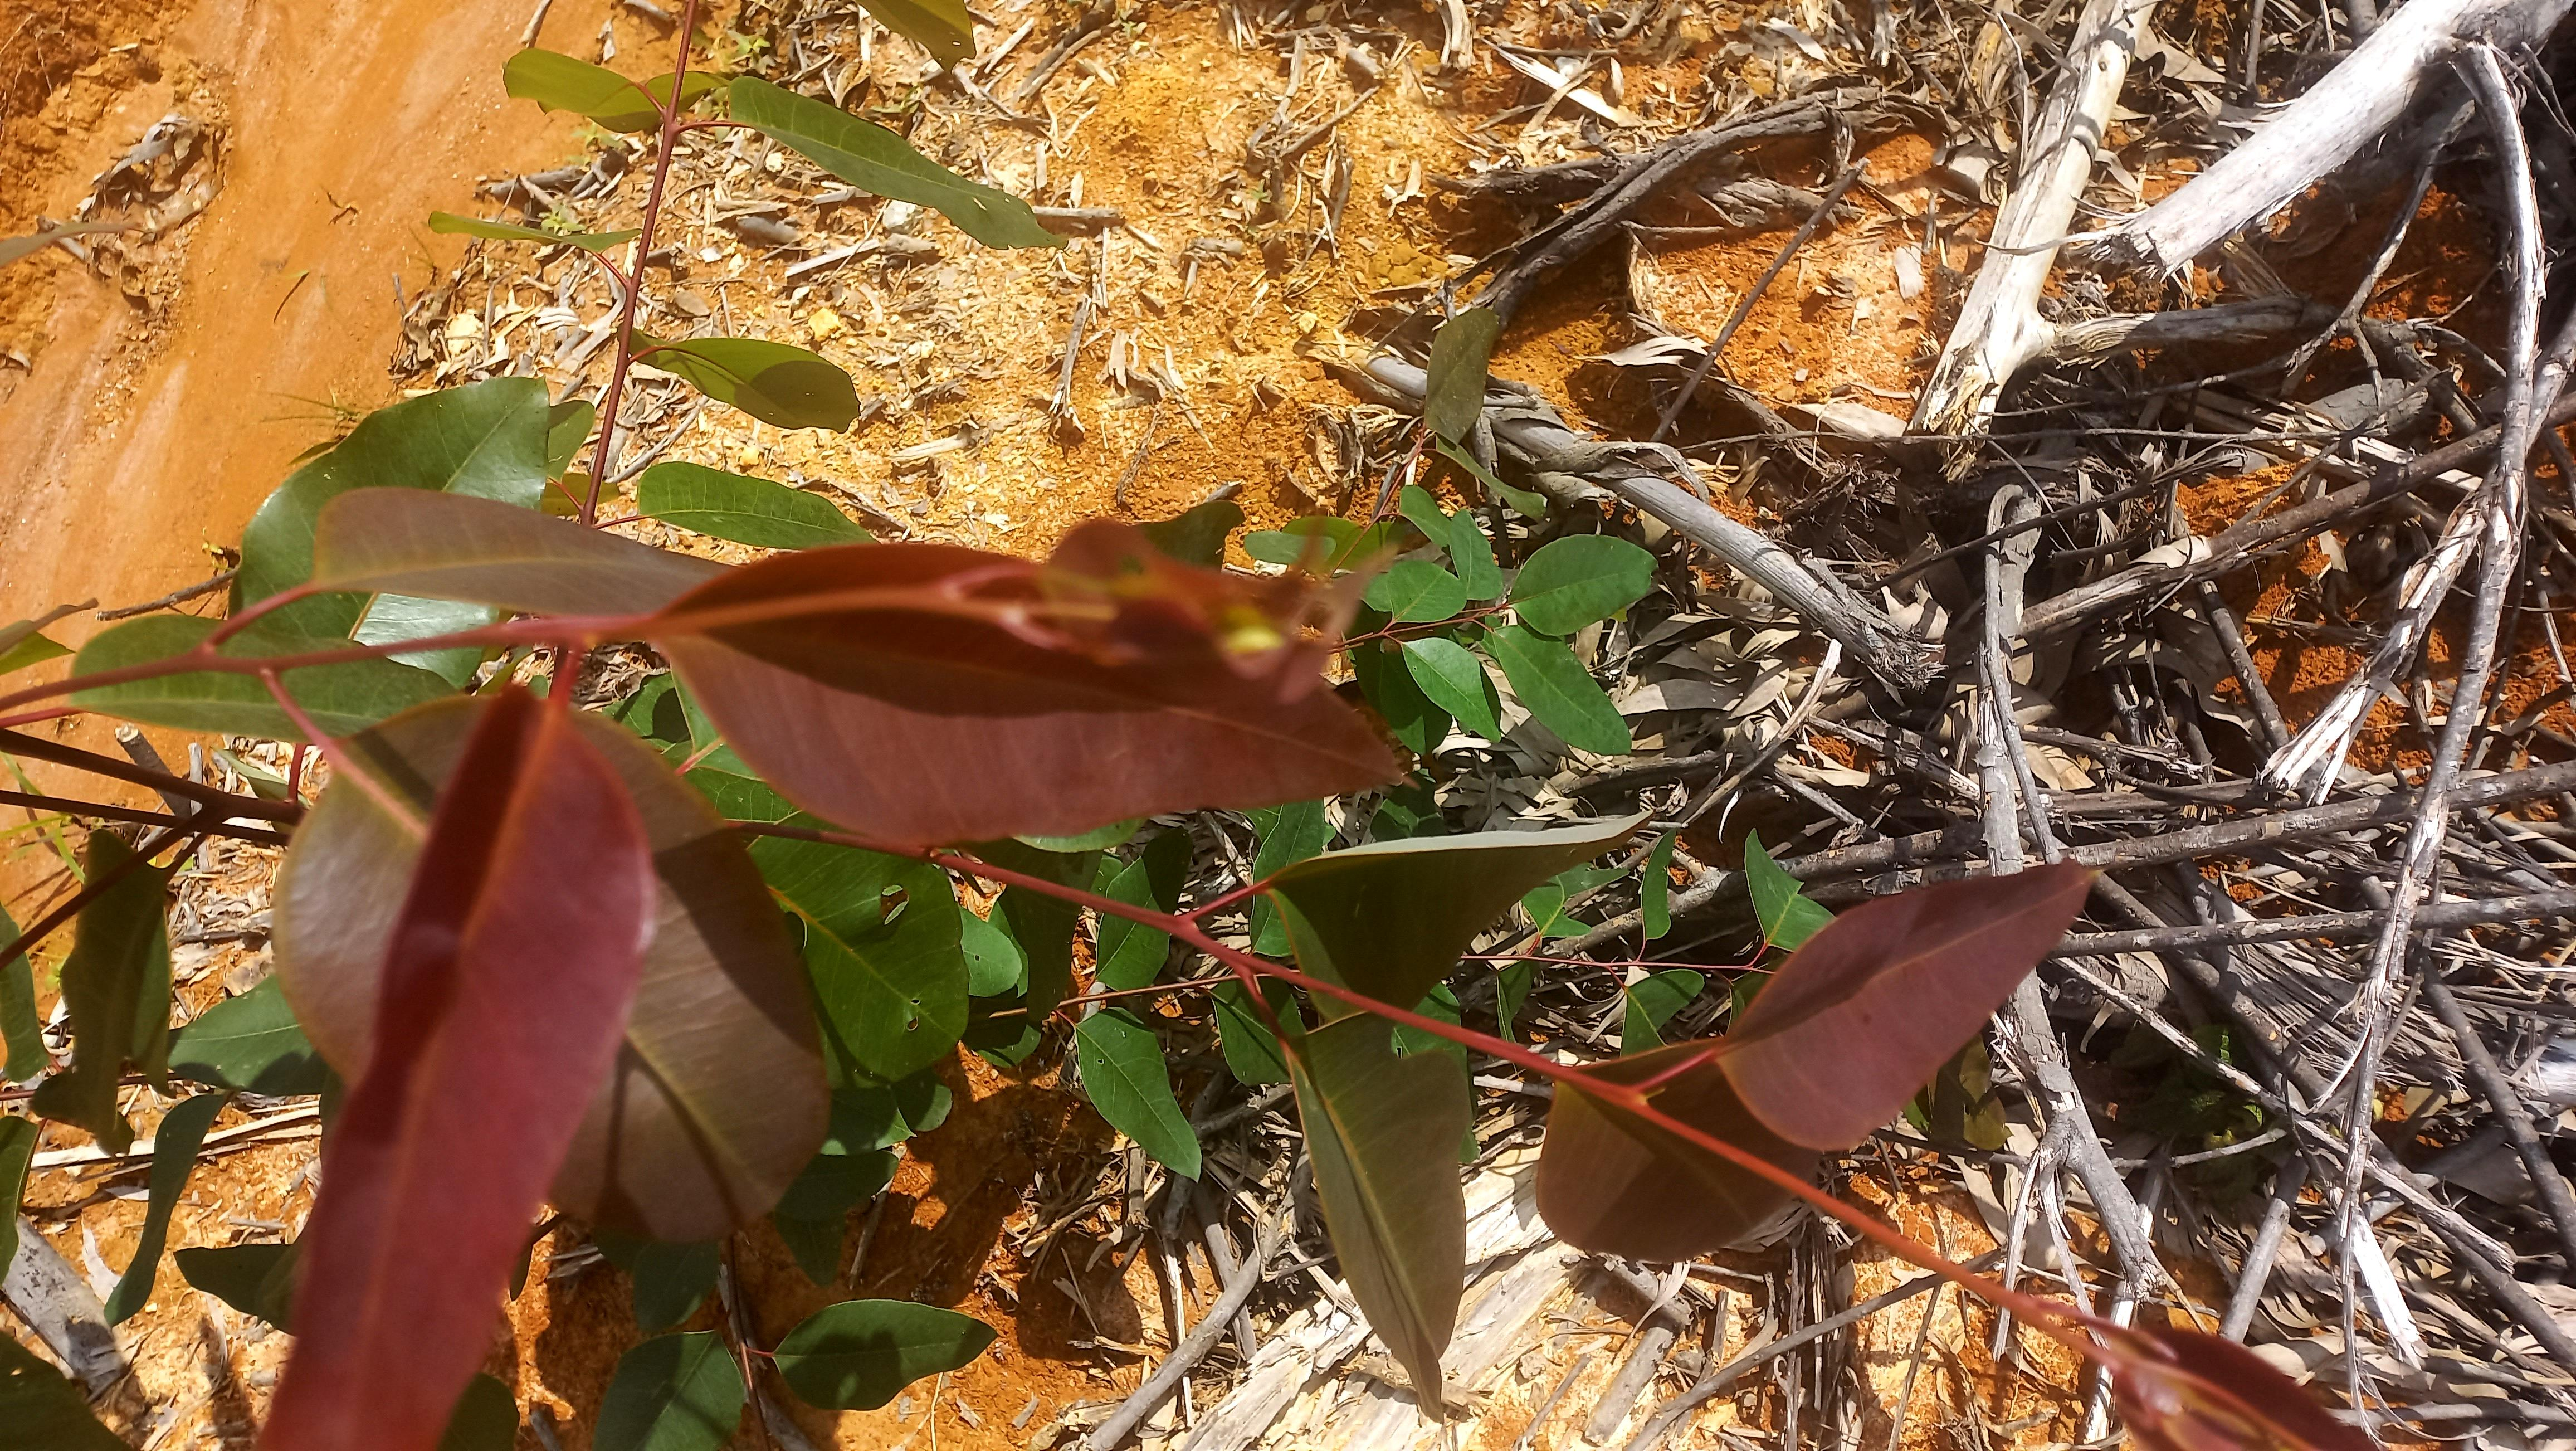Leaf Roller - Leaf: (628, 488, 1379, 835), (1037, 515, 1353, 694)
